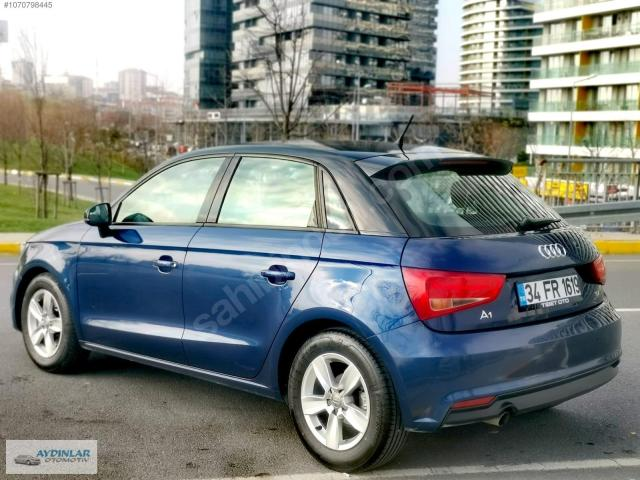plaka: (517, 275, 581, 306)
